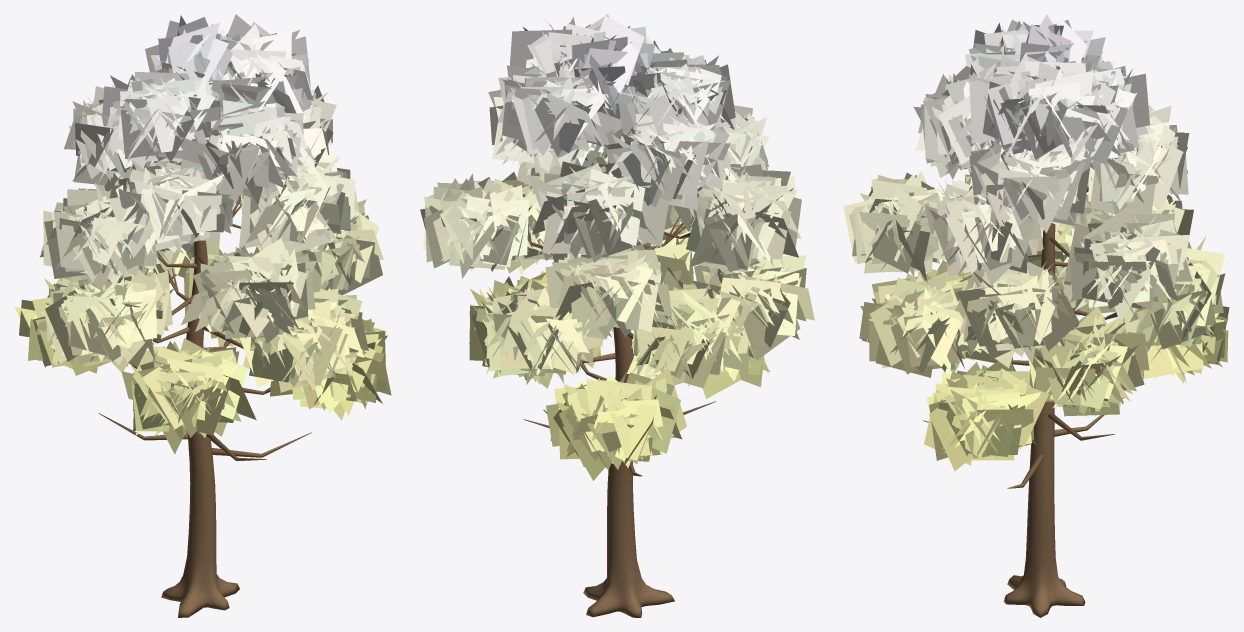
Rendered from pine.glb.
3 views of the same model, side by side, from view 1: azimuth 30°, elevation 25°; view 2: azimuth 150°, elevation 25°; view 3: azimuth 270°, elevation 25° (orthographic).
Visible parts, largest first — view 1: Leaves.009, Branches.008; view 2: Leaves.009, Branches.008; view 3: Leaves.009, Branches.008.
Boxes of the visible parts, <box> form: Leaves.009: <box>14,14,391,454</box>; Branches.008: <box>98,161,311,617</box>; Leaves.009: <box>420,14,814,480</box>; Branches.008: <box>523,157,715,617</box>; Leaves.009: <box>843,14,1229,471</box>; Branches.008: <box>923,187,1123,617</box>.
Bounding box in the file's own units: 7.52 × 12.6 × 7.6.
2 materials, 1 textured.
